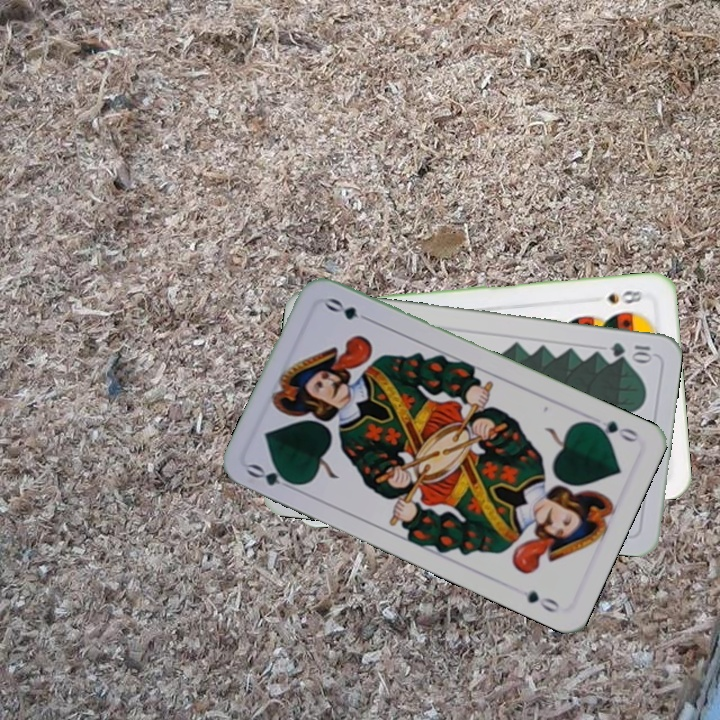G10: (607, 338, 656, 363)
GO: (243, 459, 302, 494), (584, 416, 641, 445)
S8: (603, 286, 645, 307)
